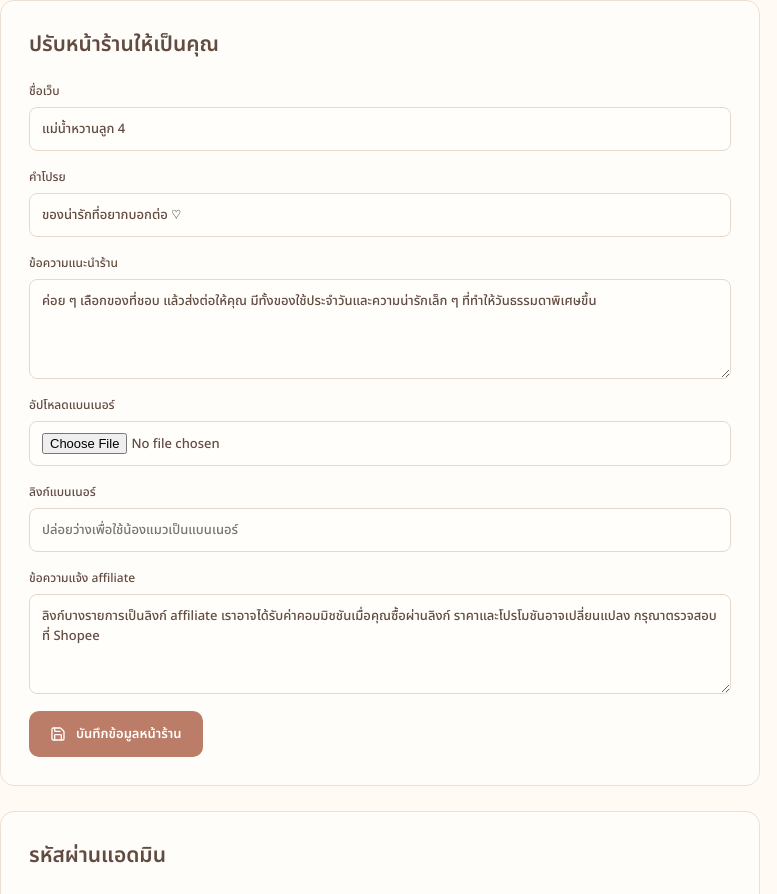
Test: settings save sends edited name and original revision
The image size is (777, 894).
Replace the text in the field labelled "ชื่อเว็บ" with "ร้านใหม่" at point(380, 129), box [29,107,731,151]
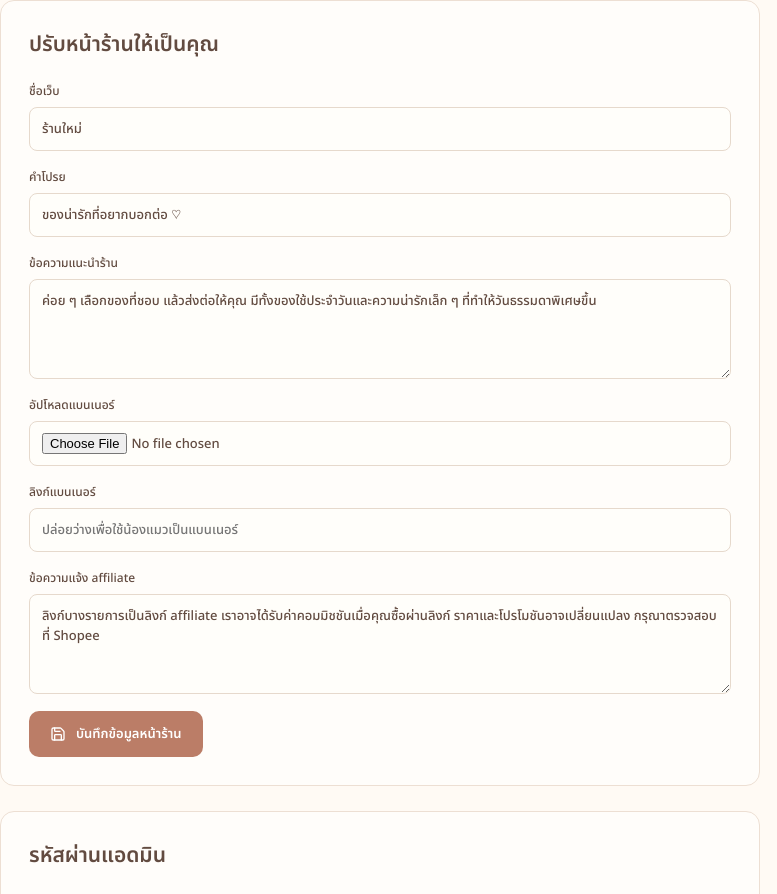
Click the button "บันทึกข้อมูลหน้าร้าน" at point(116, 734), box [29,711,202,757]
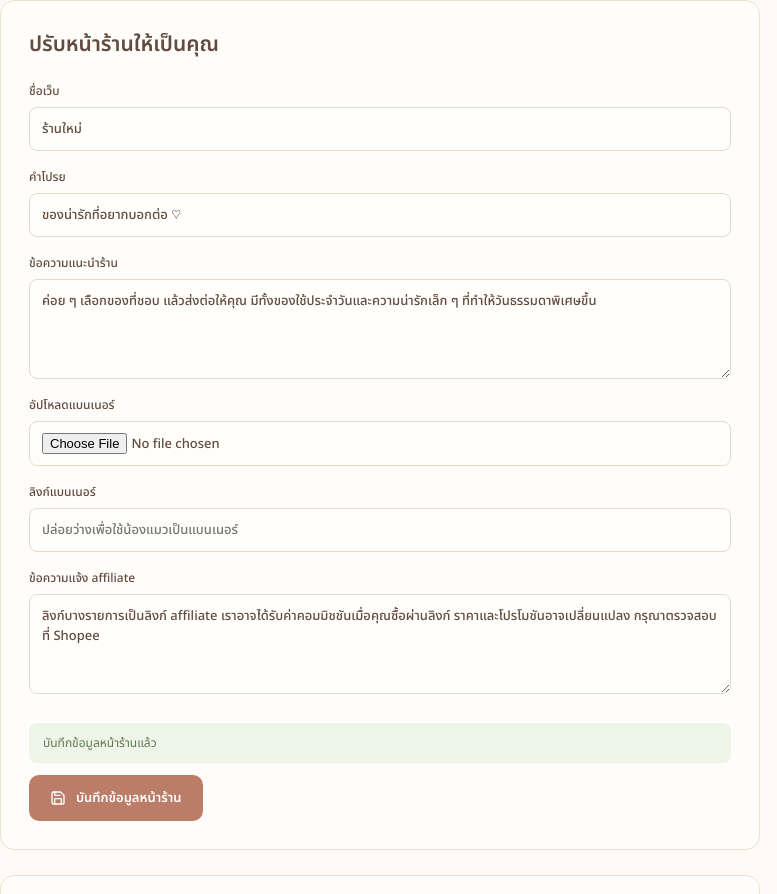
Result: the text "บันทึกข้อมูลหน้าร้านแล้ว" is shown at [29,723,731,763]
